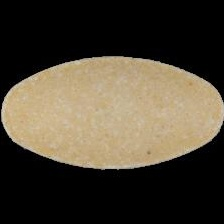54868-4646: (0, 0, 224, 224)
